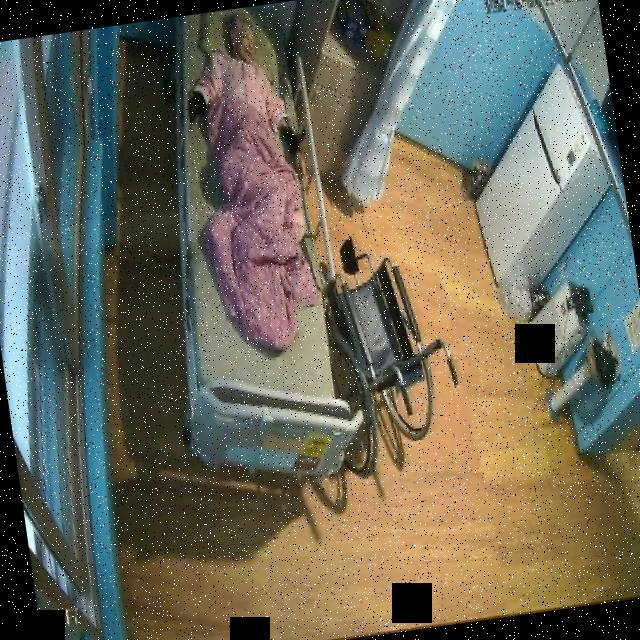bed: (136, 4, 360, 494)
lie: (176, 5, 330, 362)
patient: (176, 8, 302, 170)
